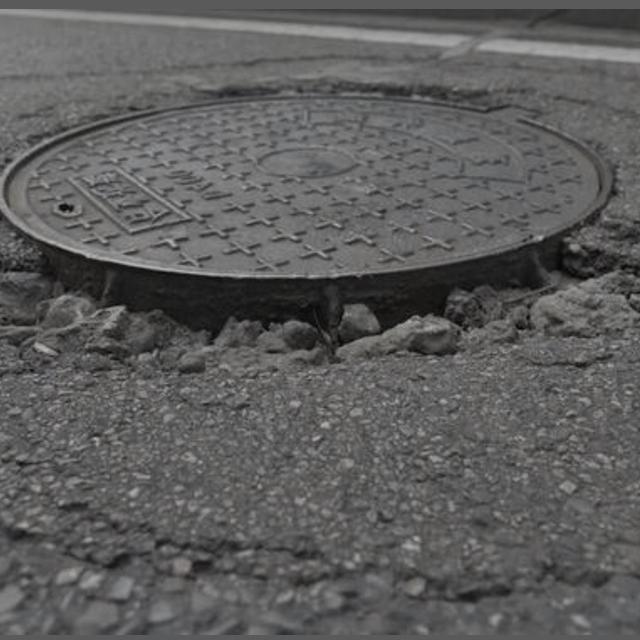circle: (0, 70, 640, 408)
